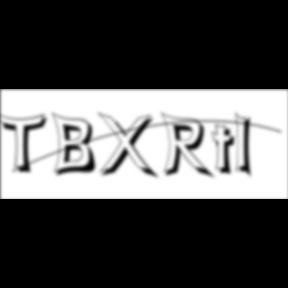B: (52, 111, 102, 179)
I: (235, 110, 259, 182)
R: (160, 112, 218, 182)
T: (0, 112, 54, 176)
X: (98, 112, 162, 182)
t: (212, 124, 242, 179)
